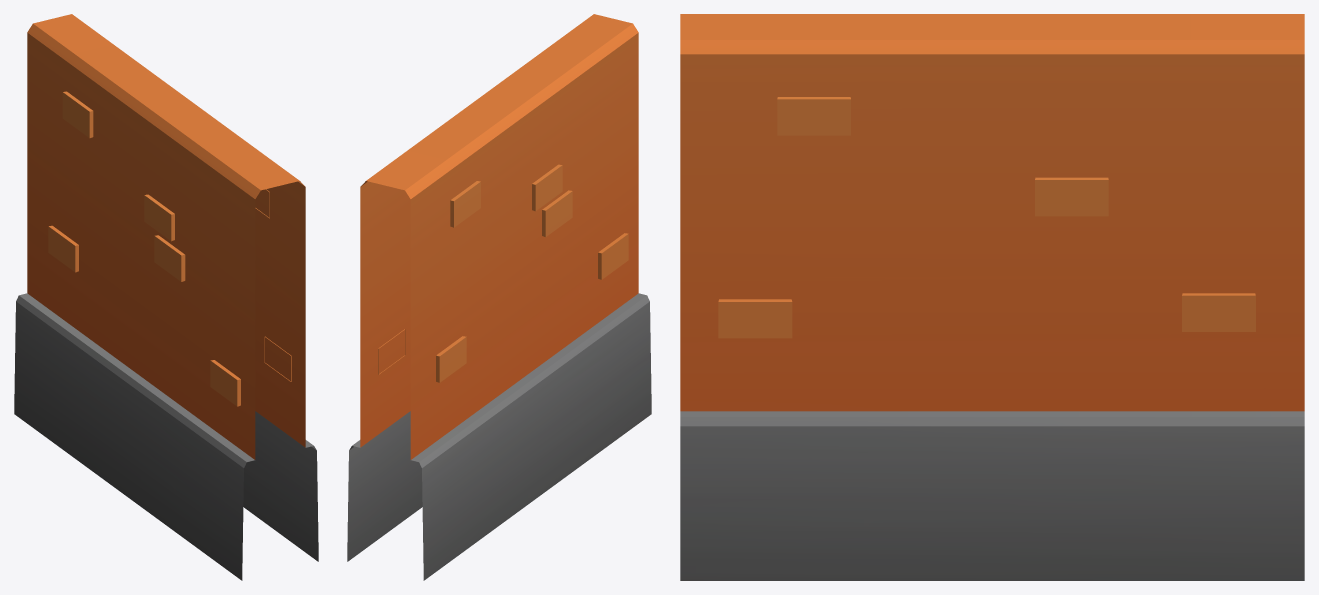
File: WallFence_3_1_A.glb
3 views of the same model, side by side, from view 1: azimuth 30°, elevation 25°; view 2: azimuth 150°, elevation 25°; view 3: azimuth 270°, elevation 25° (orthographic). The views are drawn at different scales.
Parts seen in each view (by area): view 1: WallFence_3_1_A; view 2: WallFence_3_1_A; view 3: WallFence_3_1_A.
Boxes of the visible parts, box(x1,y1,x2,y2) form: WallFence_3_1_A: box(14, 14, 318, 580); WallFence_3_1_A: box(347, 14, 651, 580); WallFence_3_1_A: box(680, 14, 1304, 580).
Bounding box in the file's own units: 0.388 × 1.87 × 2.
1 material, 1 textured.
